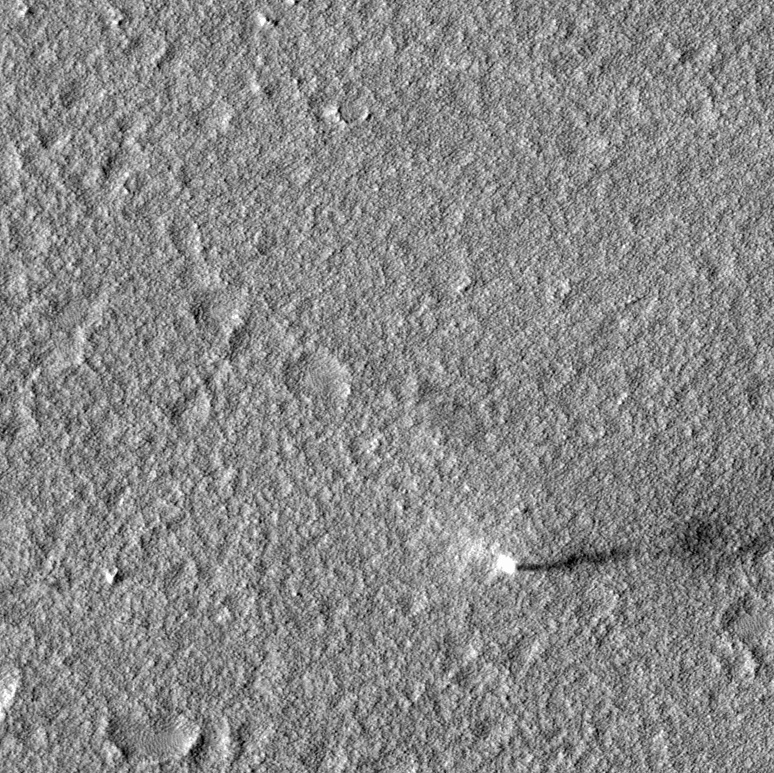dust_devil: (491, 538, 640, 578)
